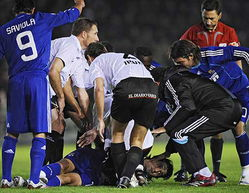fall: (17, 140, 175, 190)
